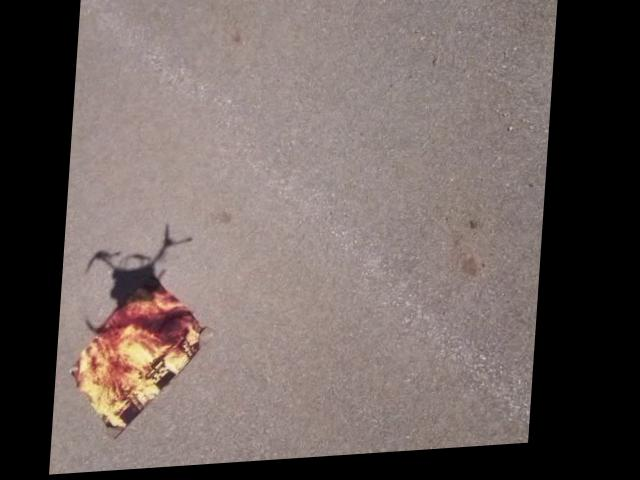fire-poster: (72, 275, 214, 440)
